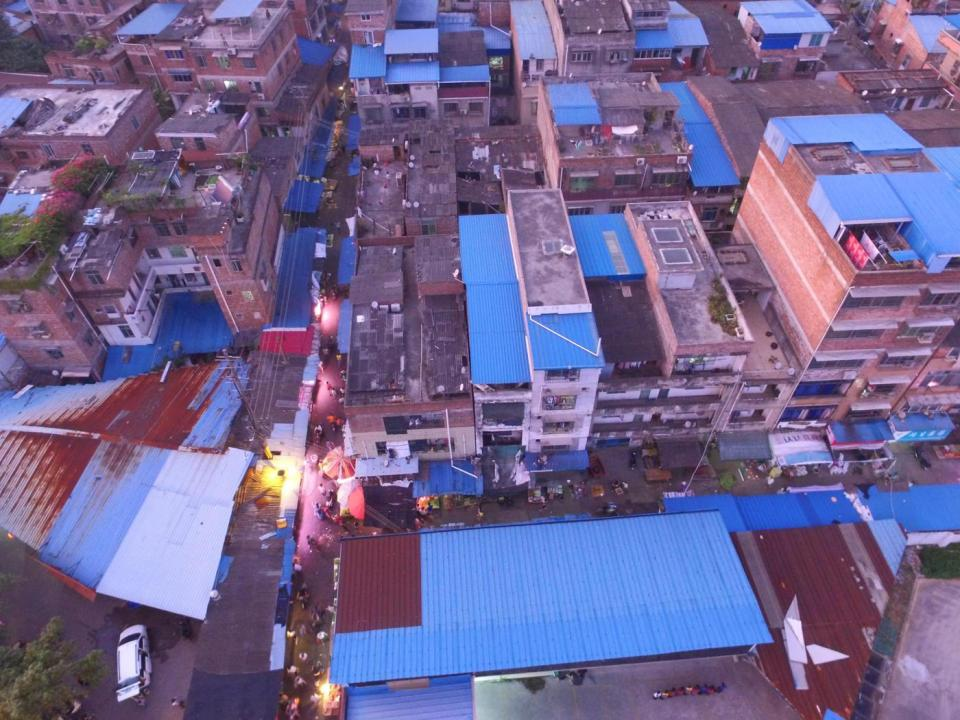car: (117, 624, 152, 703)
